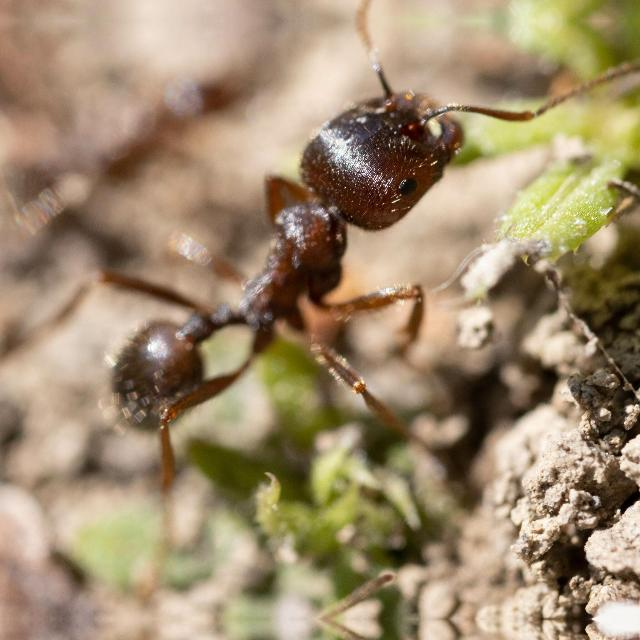Messor: (52, 68, 484, 514)
